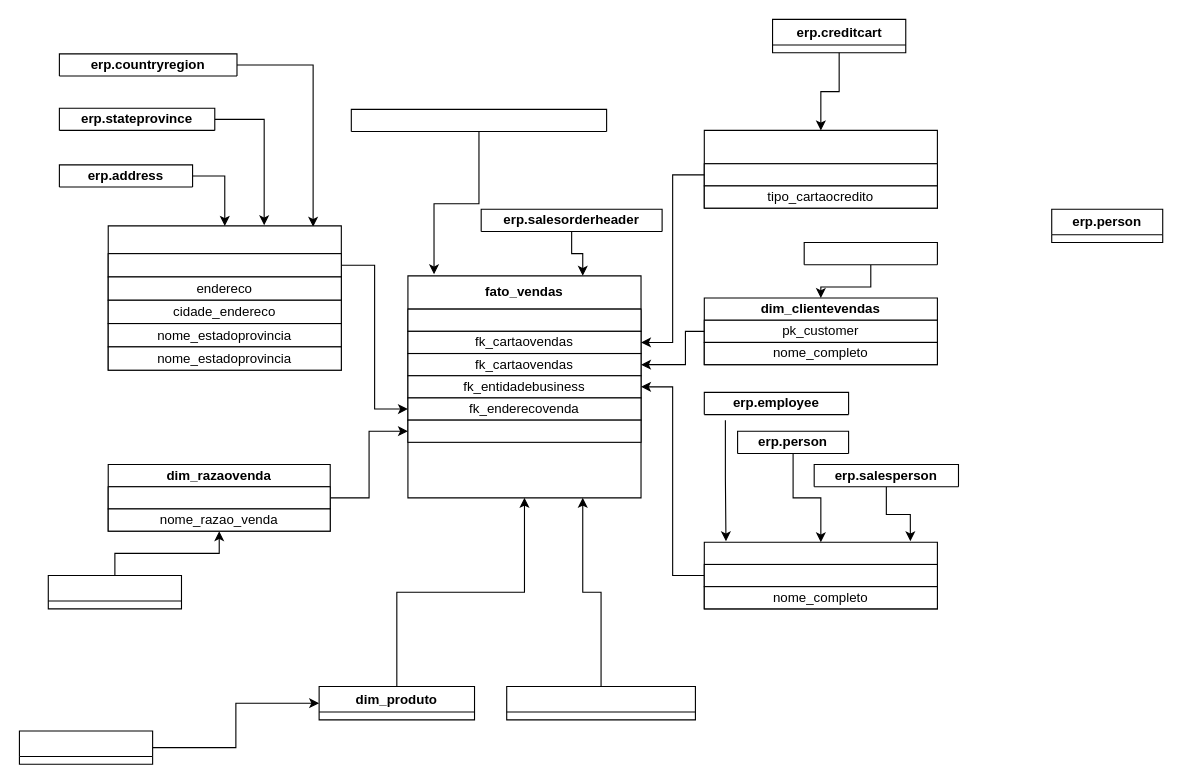
Image size: 1182x784. Some labels were removed from this diagram. The box of each missing label's shape, as (x1, y1, x2, y2) in pixels:
dim_cartaocredito: (703, 129, 937, 208)
dim_enderecovenda: (107, 225, 341, 370)
dim_vendedores: (703, 541, 937, 609)
erp.customer: (803, 241, 937, 265)
erp.product: (18, 730, 153, 764)
erp.salesoerderheadersalresreason: (350, 108, 607, 132)
erp.salesreason: (47, 574, 181, 609)
erp_salesorderdetail: (506, 685, 695, 720)
fk_razaovenda: (407, 419, 641, 442)
pk_cartaovendas: (703, 163, 937, 186)
pk_endereco: (107, 253, 341, 277)
pk_entidadebusiness: (703, 563, 937, 587)
pk_razaovenda: (107, 486, 330, 509)
